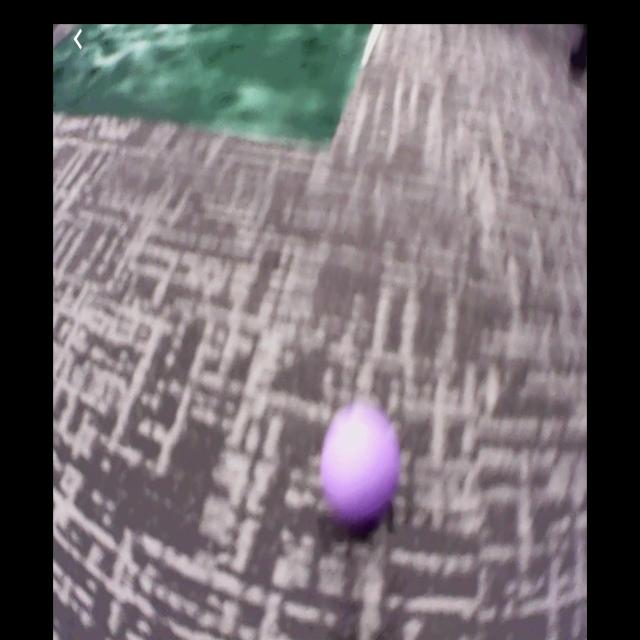ball: (324, 406, 399, 525)
